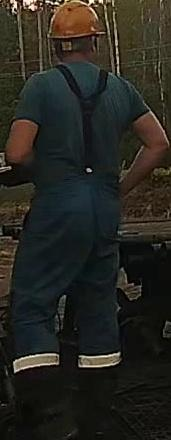helmet: (46, 0, 106, 39)
